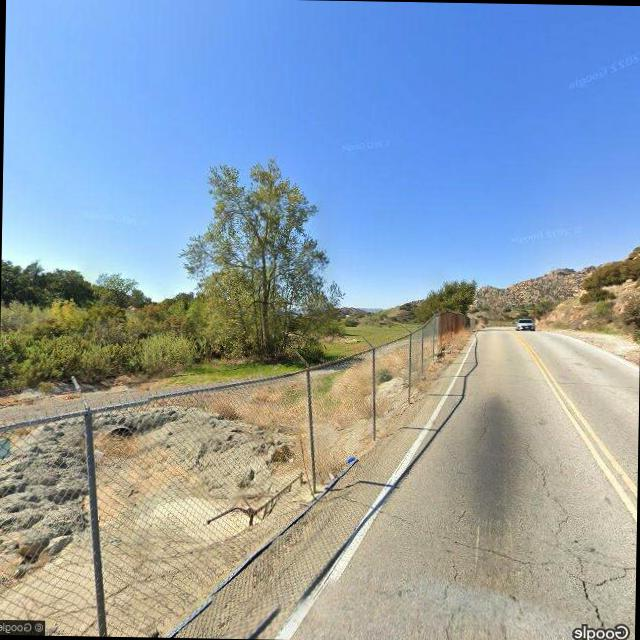crack: (335, 489, 621, 586), (524, 449, 614, 632)
